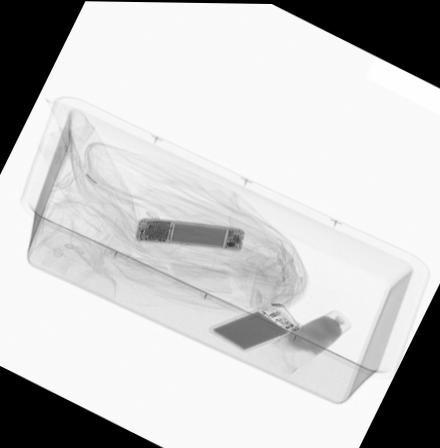Powerbank: (208, 304, 300, 352)
